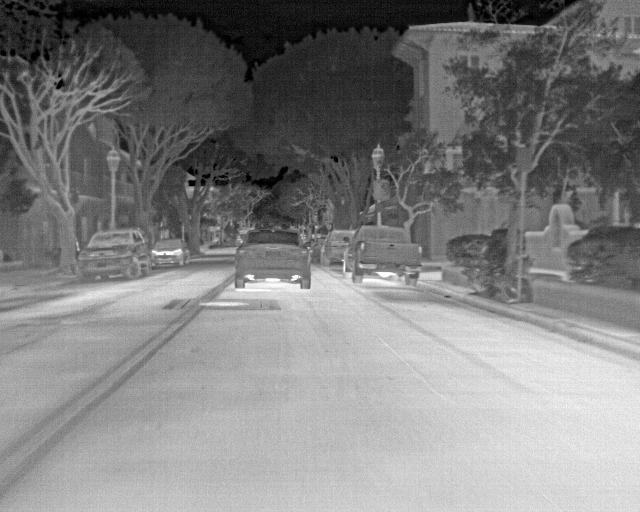car: (345, 225, 423, 288), (234, 229, 312, 292), (76, 228, 155, 282), (321, 229, 354, 266), (150, 238, 188, 269), (305, 236, 328, 264)
